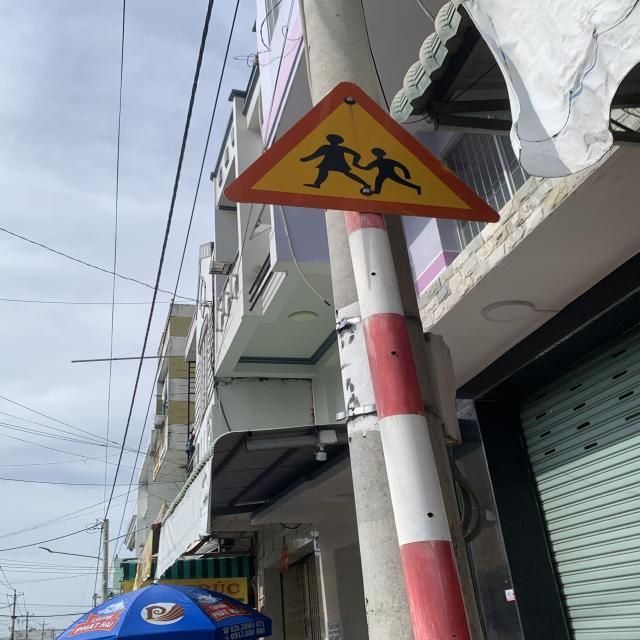Vong_Xuyen: (224, 84, 499, 224)
